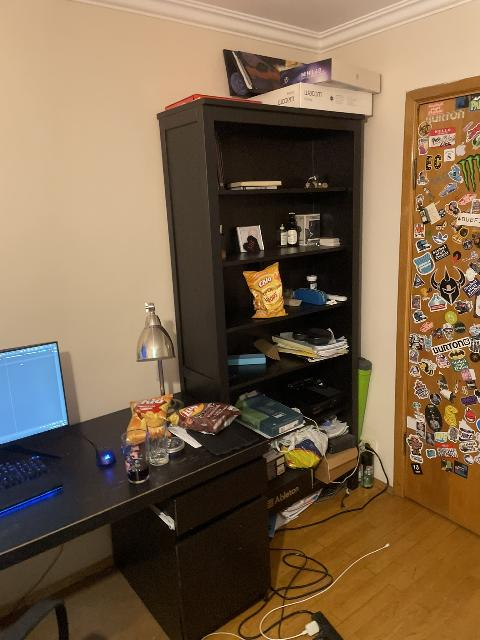Chio Cascaval 125g: (128, 393, 176, 442)
Chio Hula Hoops Cheese 70g: (242, 262, 289, 318)
Lays Beef Grilled Ribs 125g: (172, 401, 238, 434)
